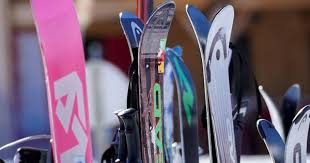skis: (28, 1, 96, 163), (118, 1, 176, 163), (184, 4, 239, 163), (165, 46, 197, 163), (255, 104, 310, 163), (258, 83, 301, 142), (106, 108, 142, 163), (13, 144, 50, 163)
